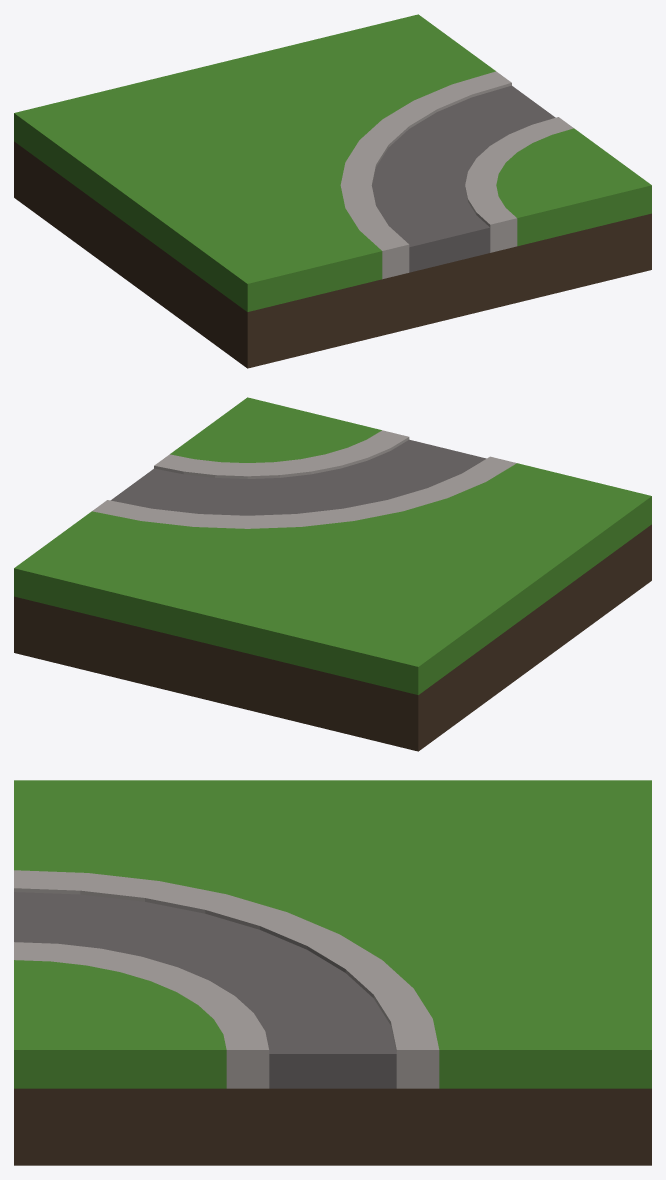
File: tile-road-curve.fbx
3 renders of one model, top to bottom at view 1: azimuth 30°, elevation 25°; view 2: azimuth 150°, elevation 25°; view 3: azimuth 270°, elevation 25°, orthographic. The views are drawn at different scales.
Visible parts, largest first — view 1: tile-road-curve; view 2: tile-road-curve; view 3: tile-road-curve.
Boxes of the visible parts, bbox=[...] form: tile-road-curve: bbox=[14, 14, 651, 368]; tile-road-curve: bbox=[14, 397, 651, 751]; tile-road-curve: bbox=[14, 780, 651, 1165].
Size of the model in its own units: 30 by 6 by 30.
